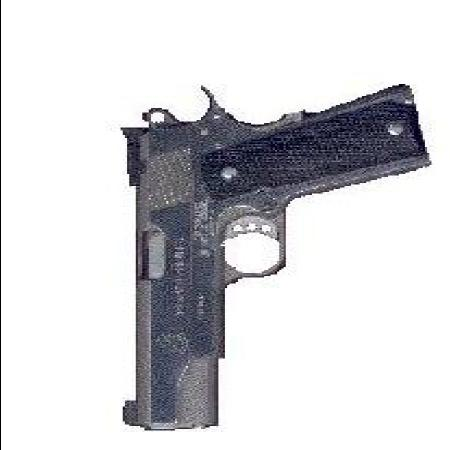Pistol: (118, 75, 422, 427)
